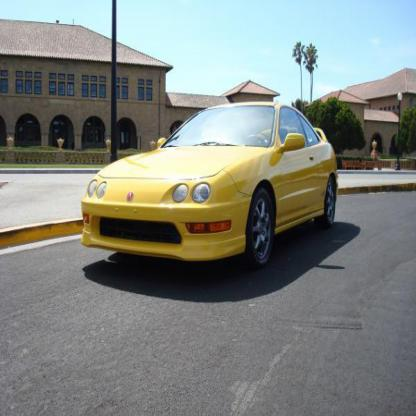Vehicle: (79, 98, 341, 270)
